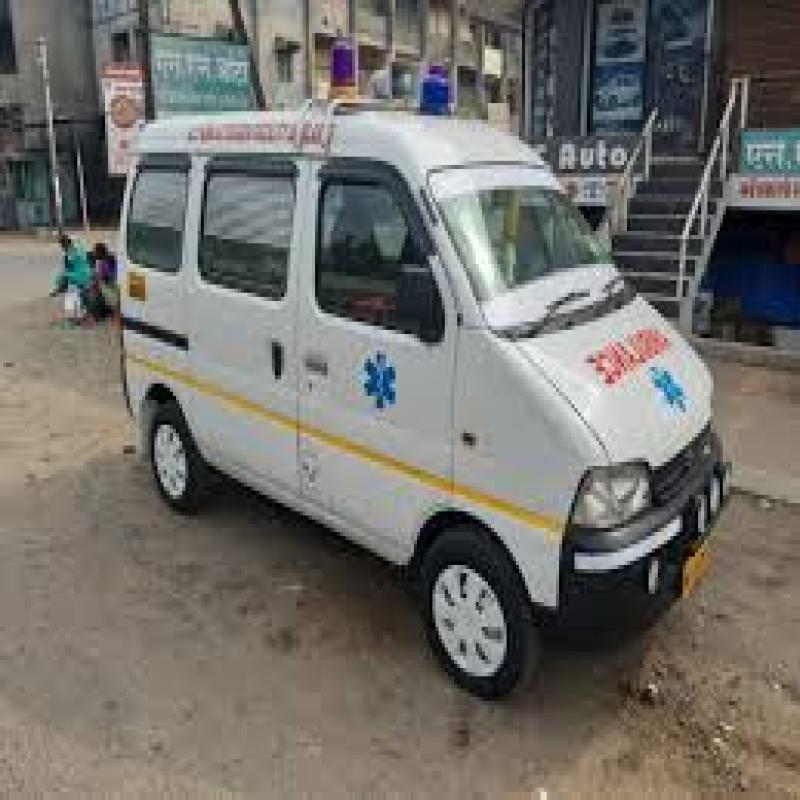ambulance: (135, 126, 719, 698)
